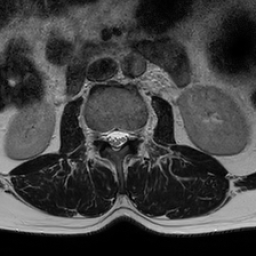CCS_normal: (113, 120, 121, 157)
LFS_normal: (129, 120, 137, 147)
LLS_normal: (121, 120, 129, 149)
RFS_normal: (98, 121, 105, 148)
RLS_normal: (105, 121, 113, 150)
